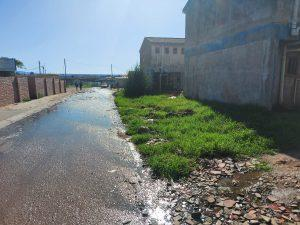water_leak: (0, 84, 180, 224)
